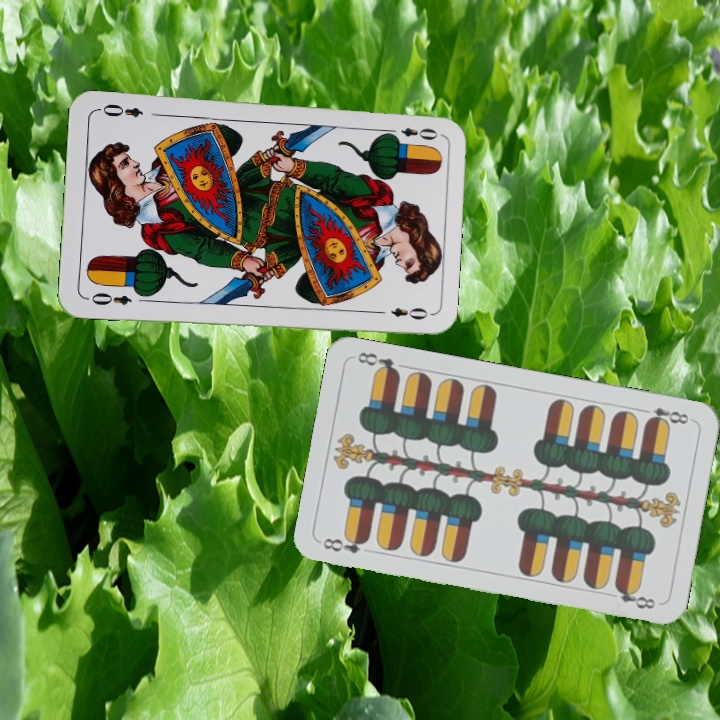E8: (636, 403, 692, 429), (319, 531, 371, 557)
EO: (382, 124, 441, 143), (82, 288, 134, 308)
